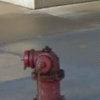Hydrant: (16, 34, 73, 100)
